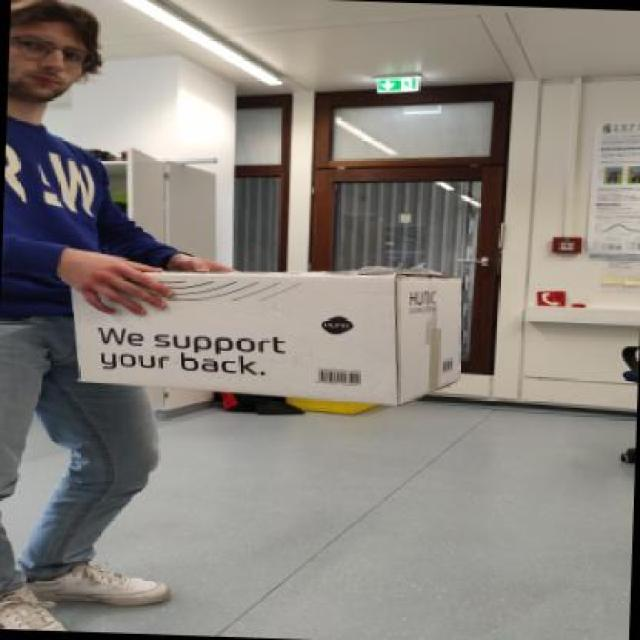box: (38, 236, 494, 427)
